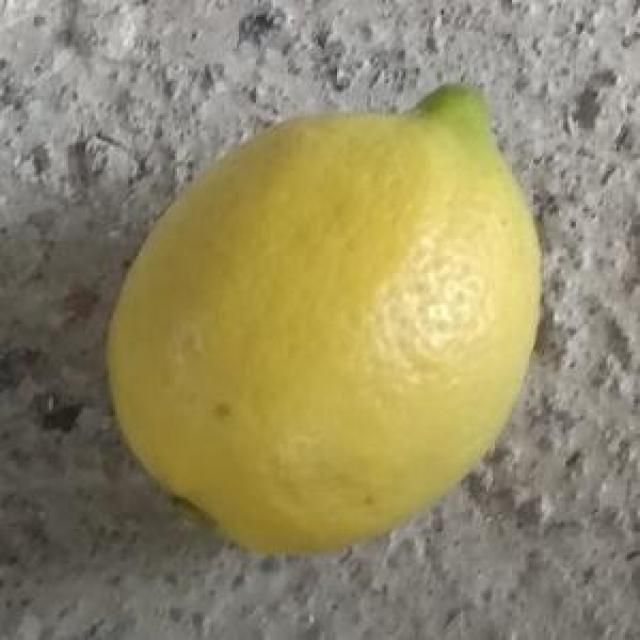lemon: (101, 84, 550, 554)
